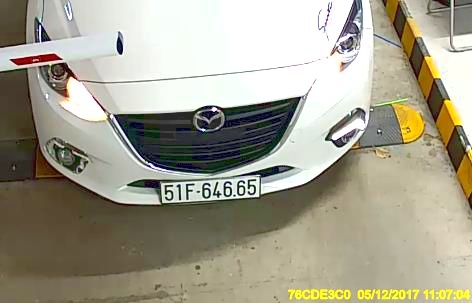plate: (156, 174, 262, 202)
